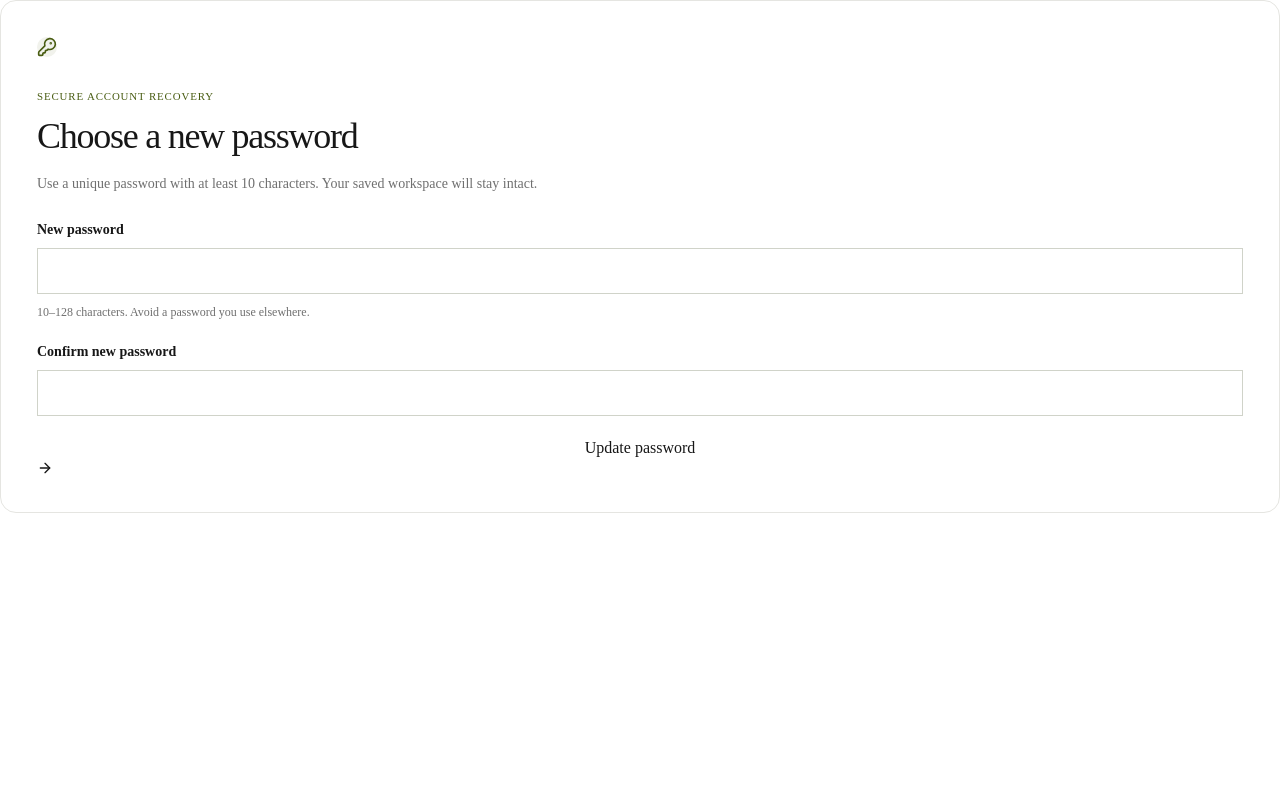
human email-link password reset › refuses an old capture before POST when a newer link arrives during CSRF preparation
Type "human-new-password-123" into the password field labelled "New password". click: (640,271)
box: 37,248 -> 1243,294
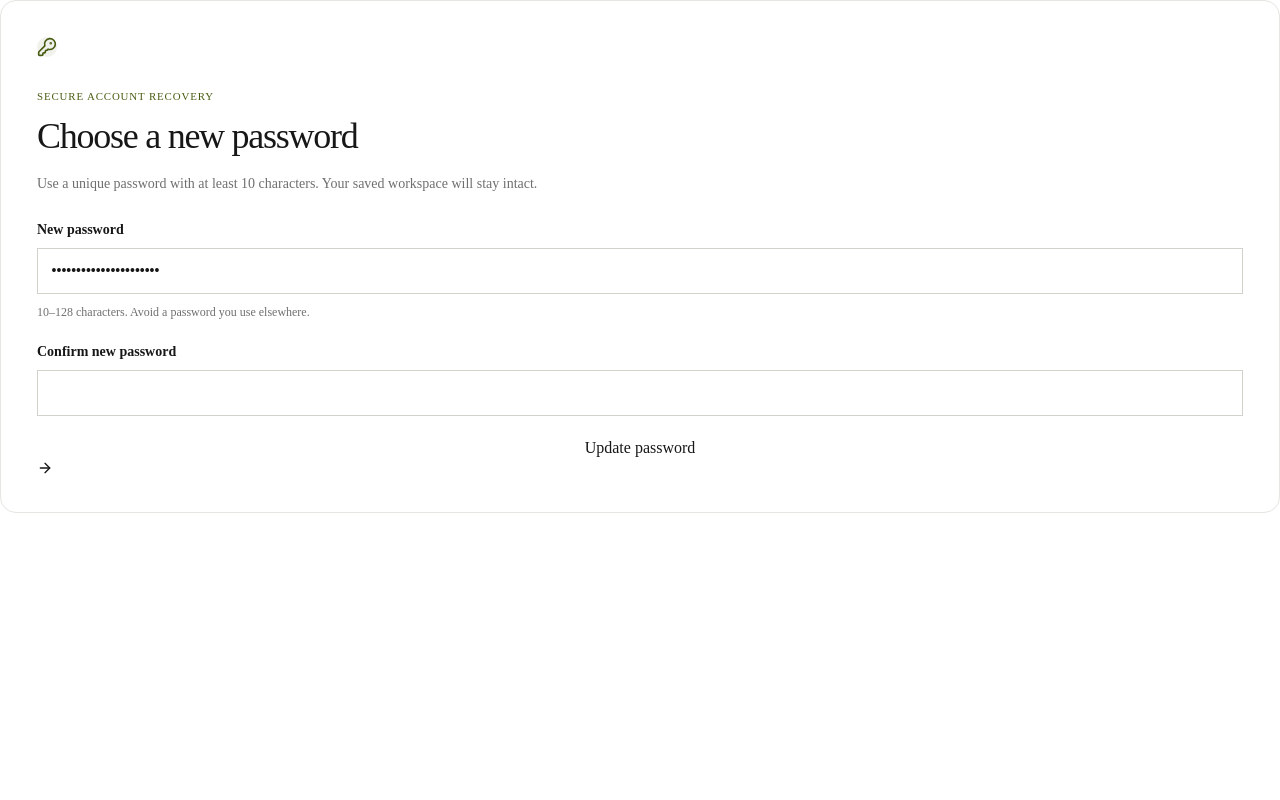
Type "human-new-password-123" into the password field labelled "Confirm new password". click: (640,393)
box: 37,370 -> 1243,416
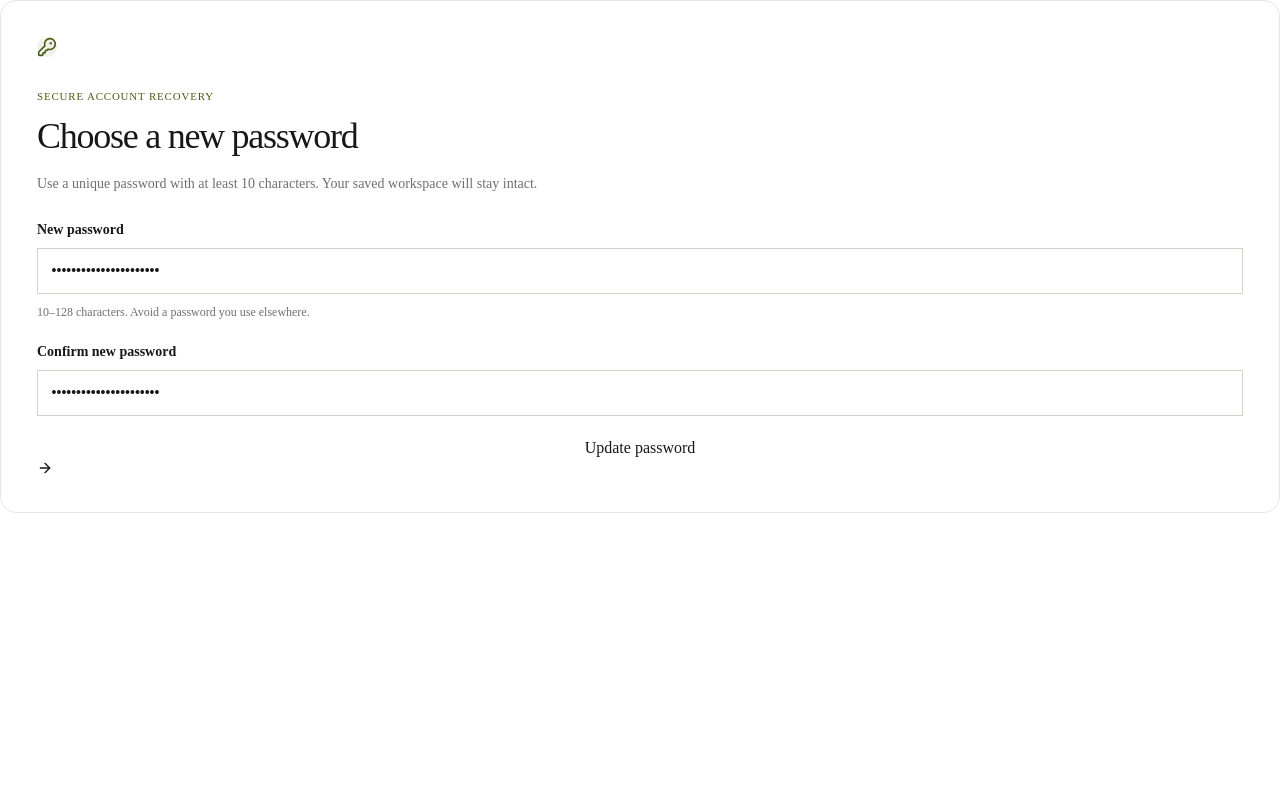
Click the button "Update password". click: (640,456)
box: 37,436 -> 1243,476
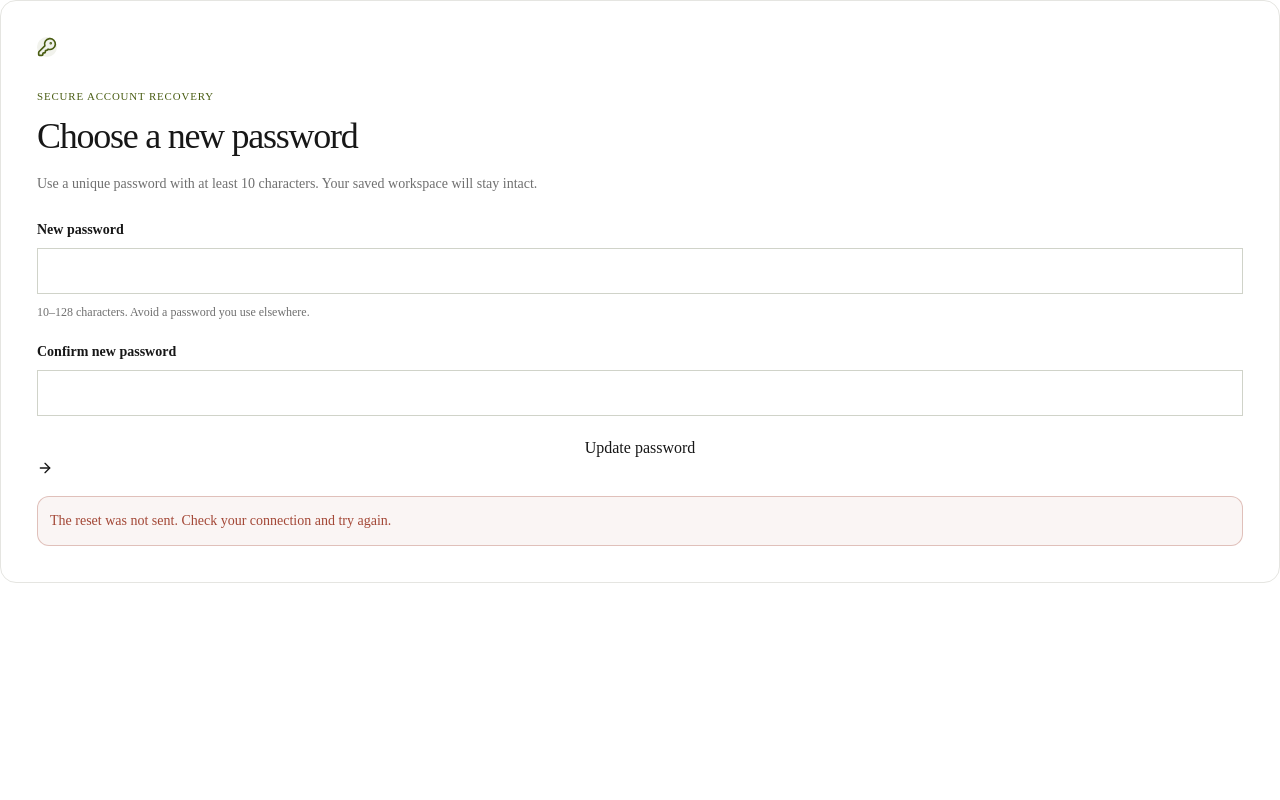
Expected: the message shows "reset was not sent", 50,513 -> 391,528
